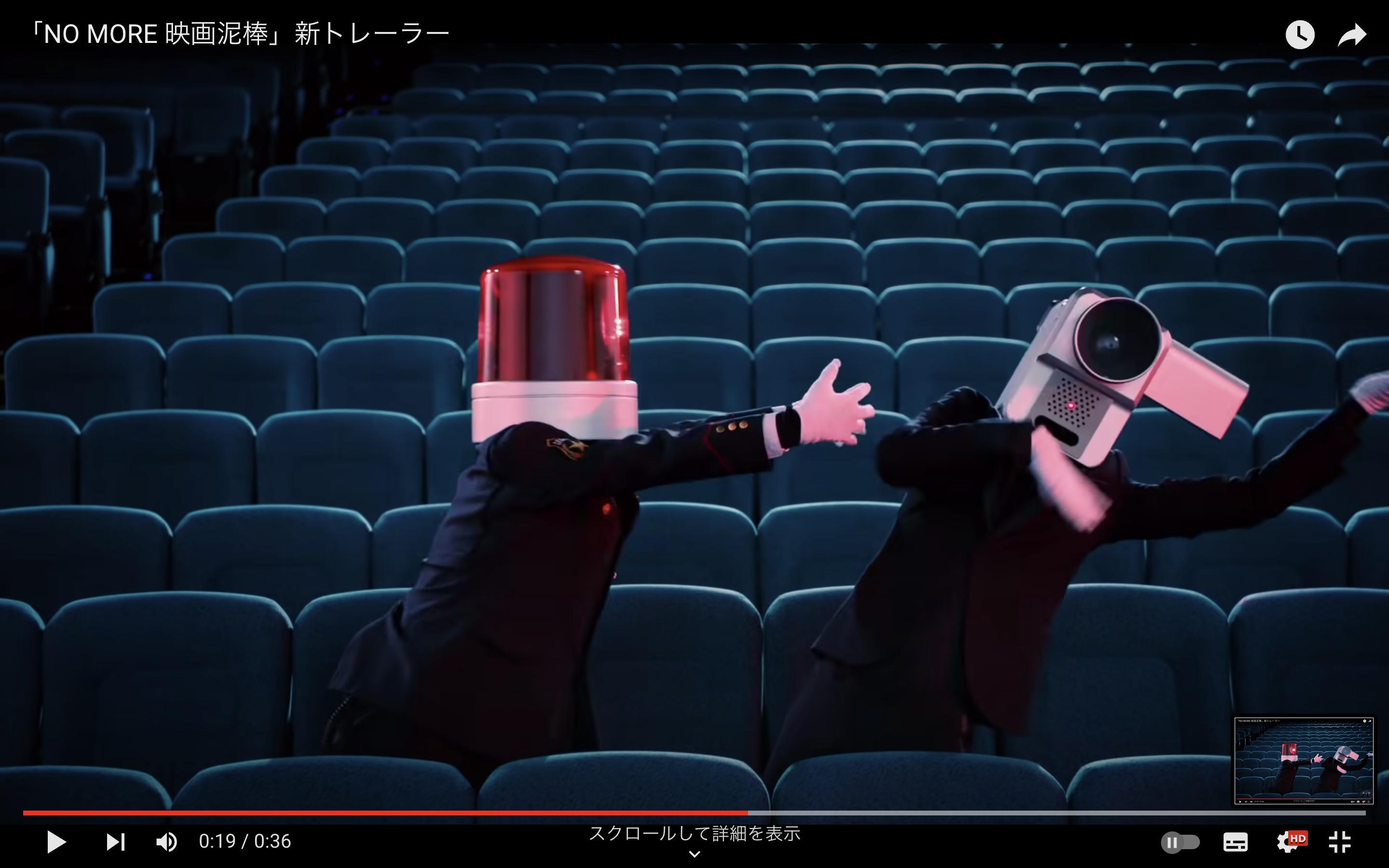no more kid: (990, 290, 1248, 470)
